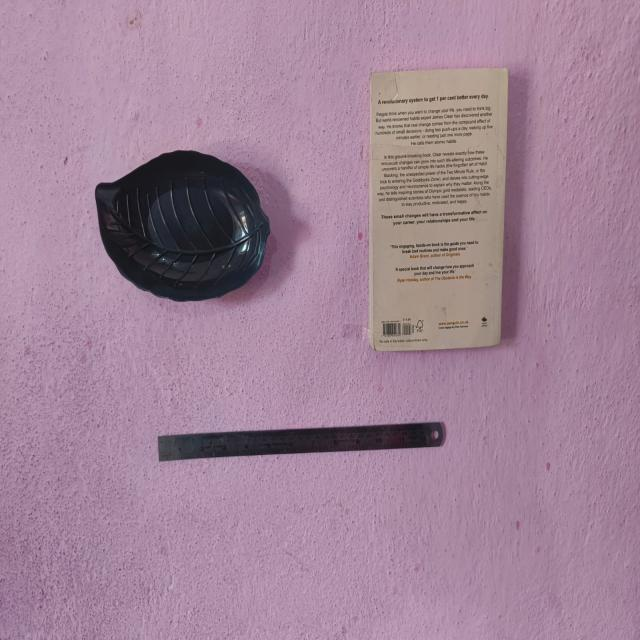Book: (365, 61, 511, 355)
pen: (98, 147, 271, 302)
plate: (152, 417, 453, 470)
